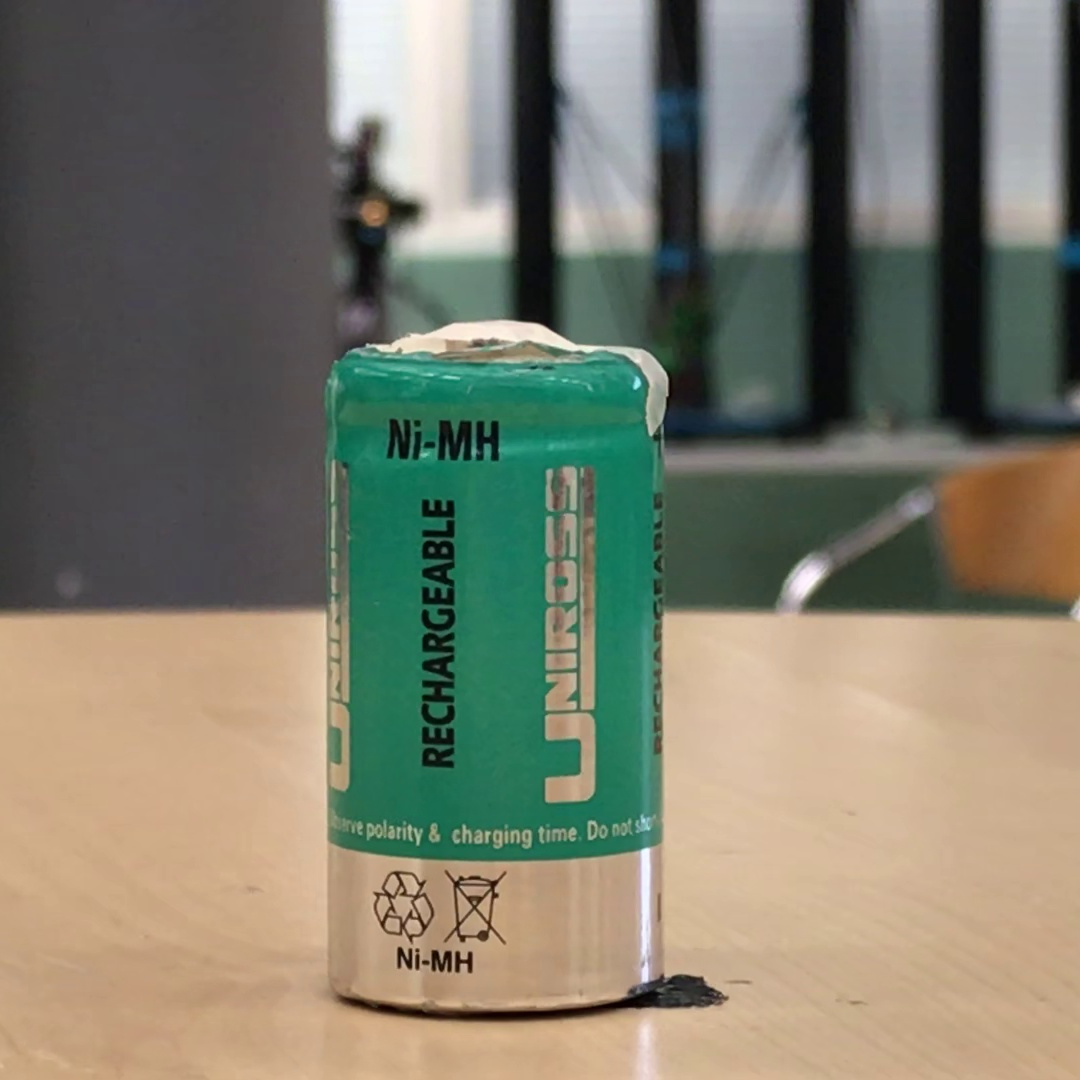keyword: (387, 941, 483, 980)
